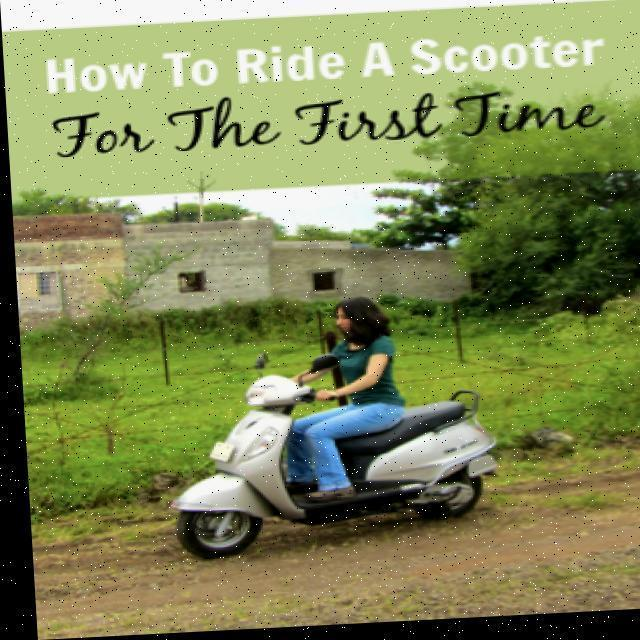Helmet: (320, 295, 388, 349)
